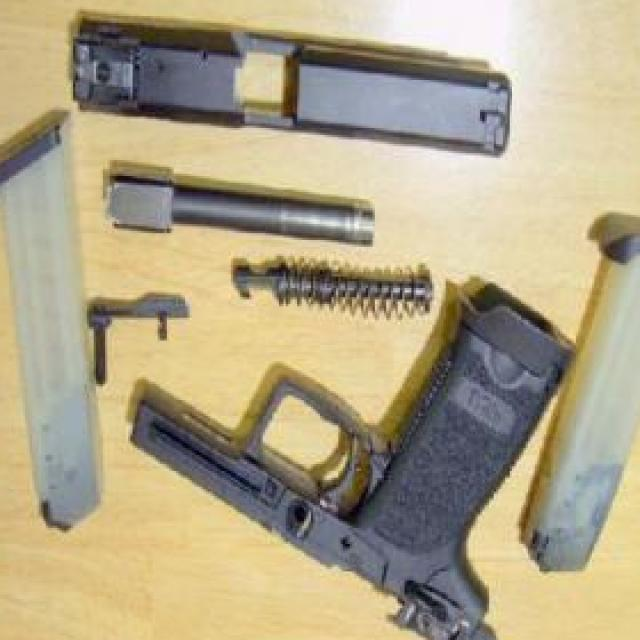pistol: (132, 272, 588, 640)
